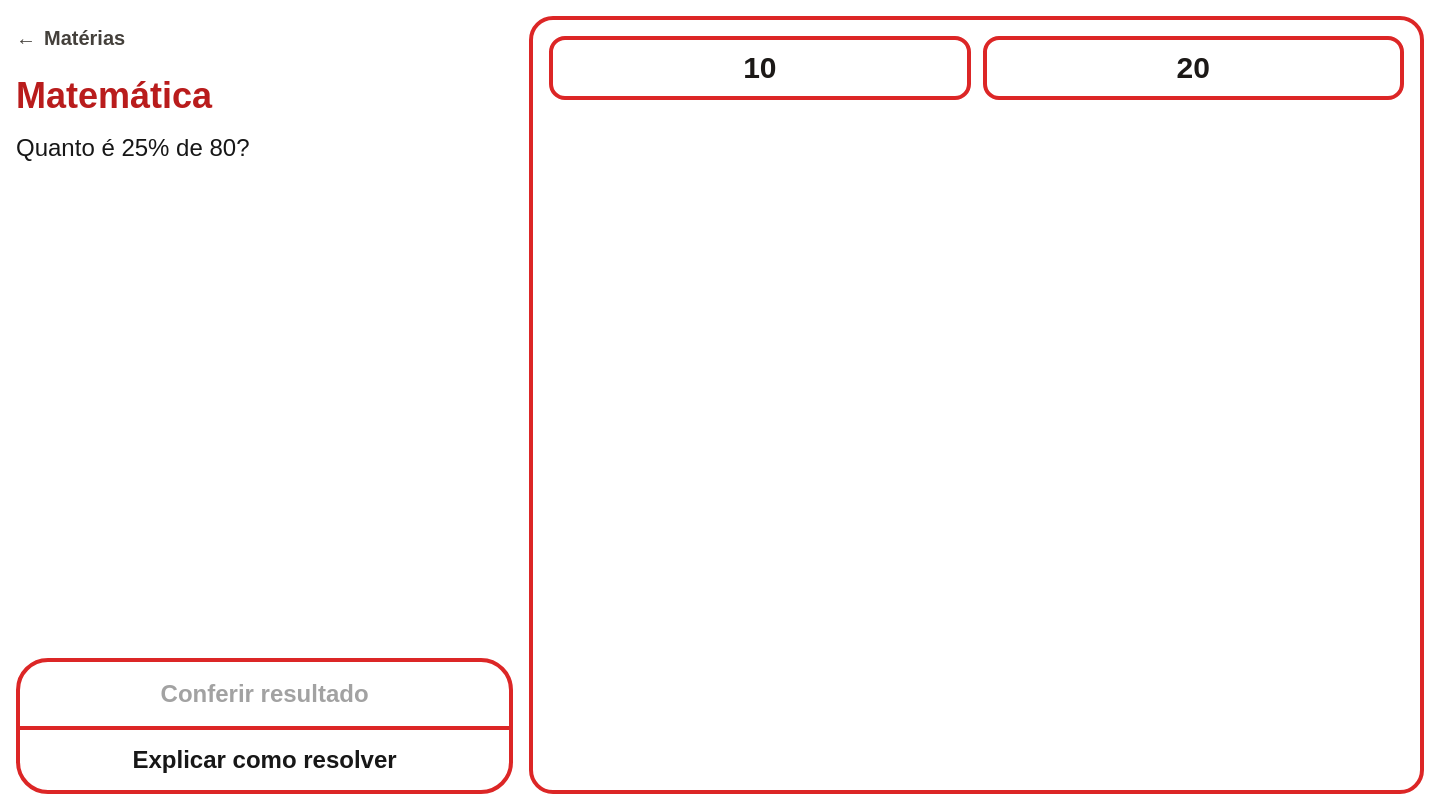
multiple-choice question › a correct answer shows positive feedback and locks the options
Click the button "20" at {"x": 1193, "y": 68}, box x1=983 y1=36 x2=1404 y2=100
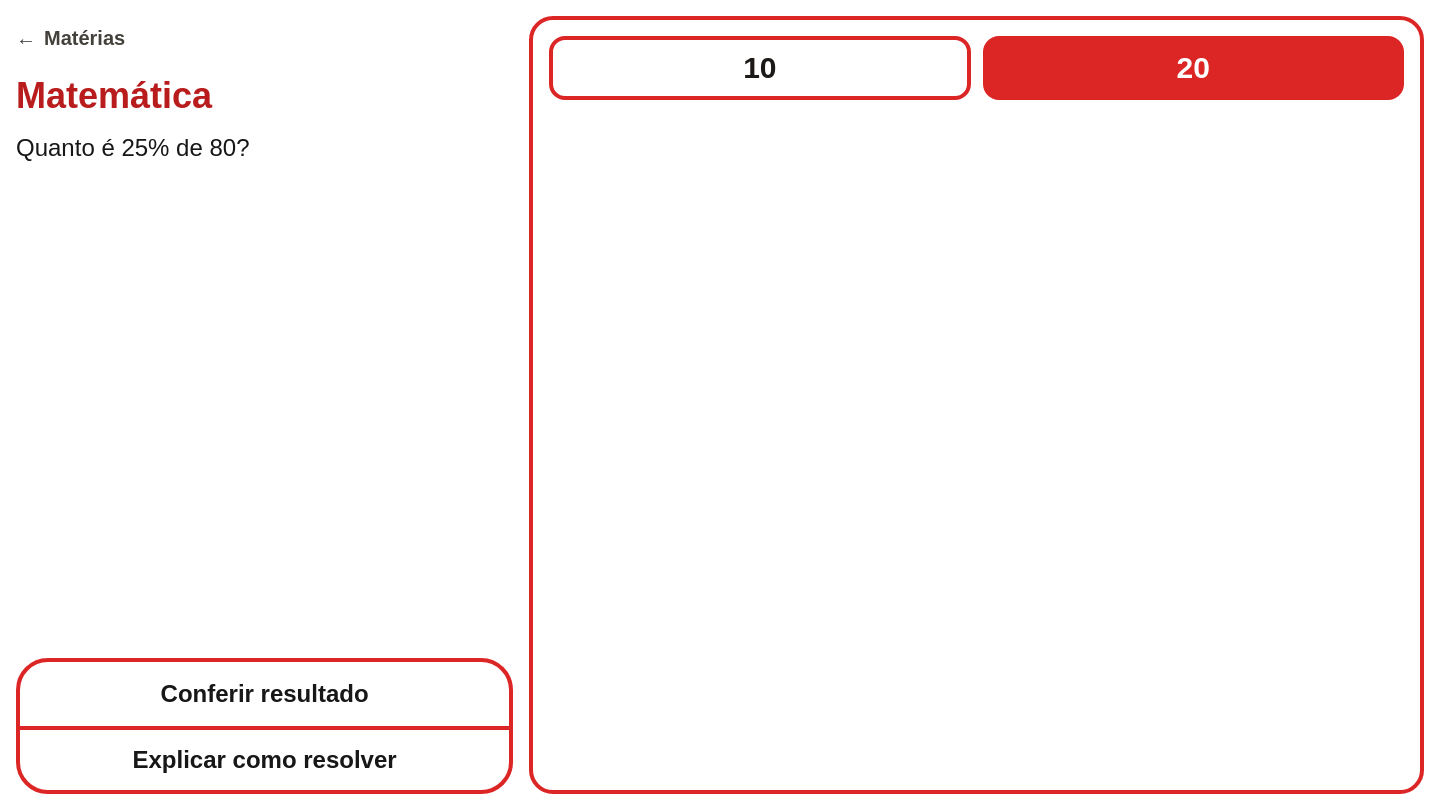
Click the button "Conferir resultado" at {"x": 265, "y": 694}, box x1=20 y1=662 x2=509 y2=726
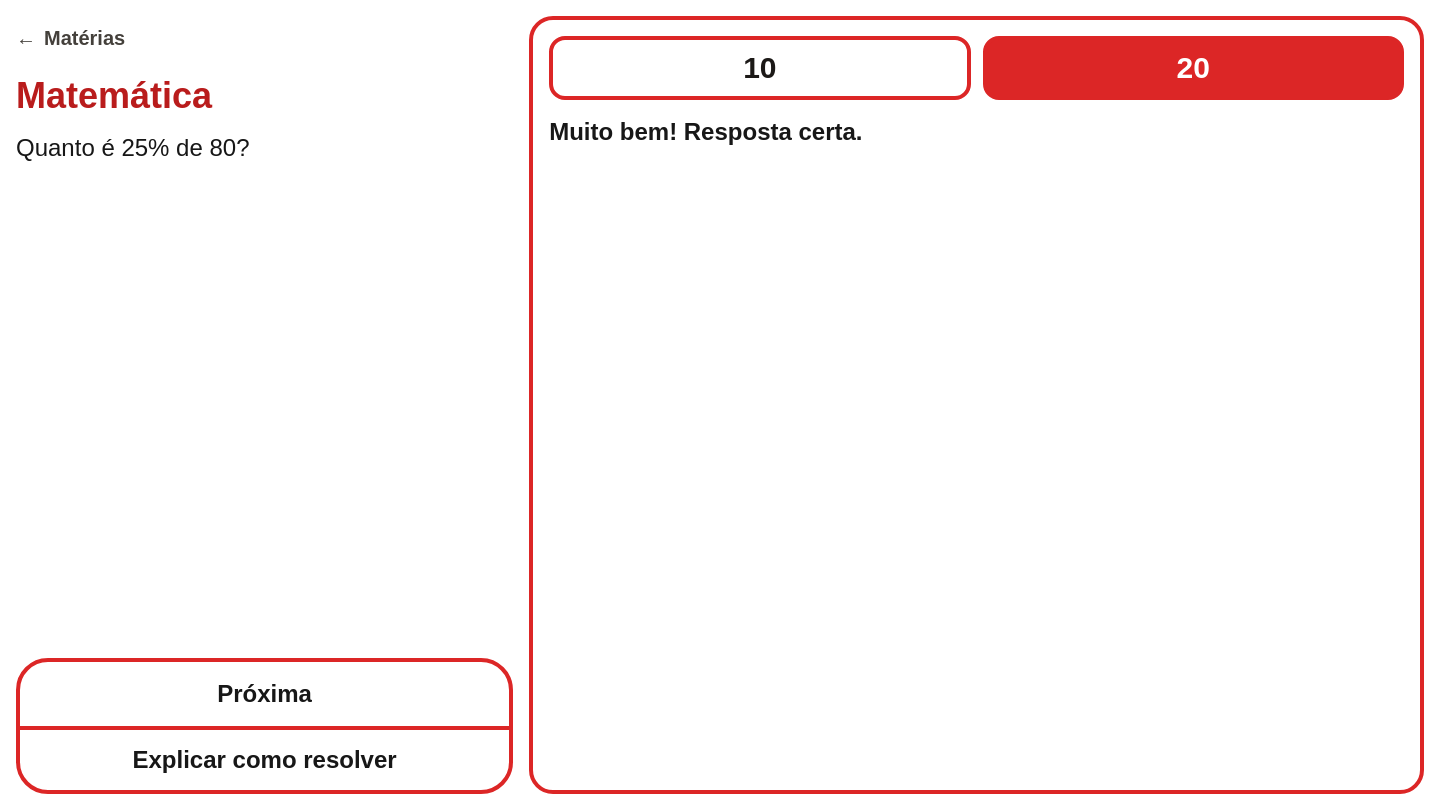
Expected: the button "10" is disabled, x1=549 y1=36 x2=970 y2=100
Expected: the message reads "Muito bem! Resposta certa.", x1=549 y1=118 x2=862 y2=145
